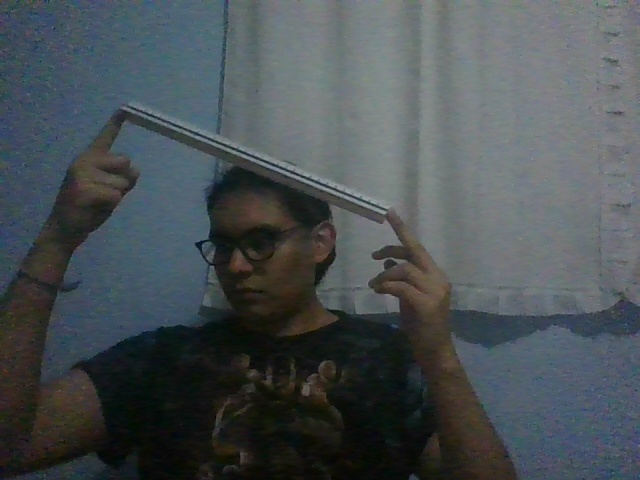regla: (119, 100, 391, 225)
